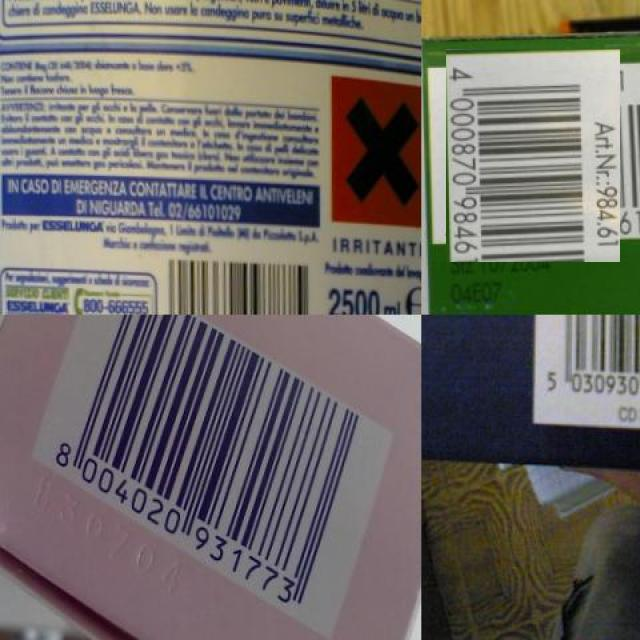Barcode: (24, 315, 400, 640), (436, 59, 630, 253), (528, 315, 640, 436), (156, 252, 317, 315)
